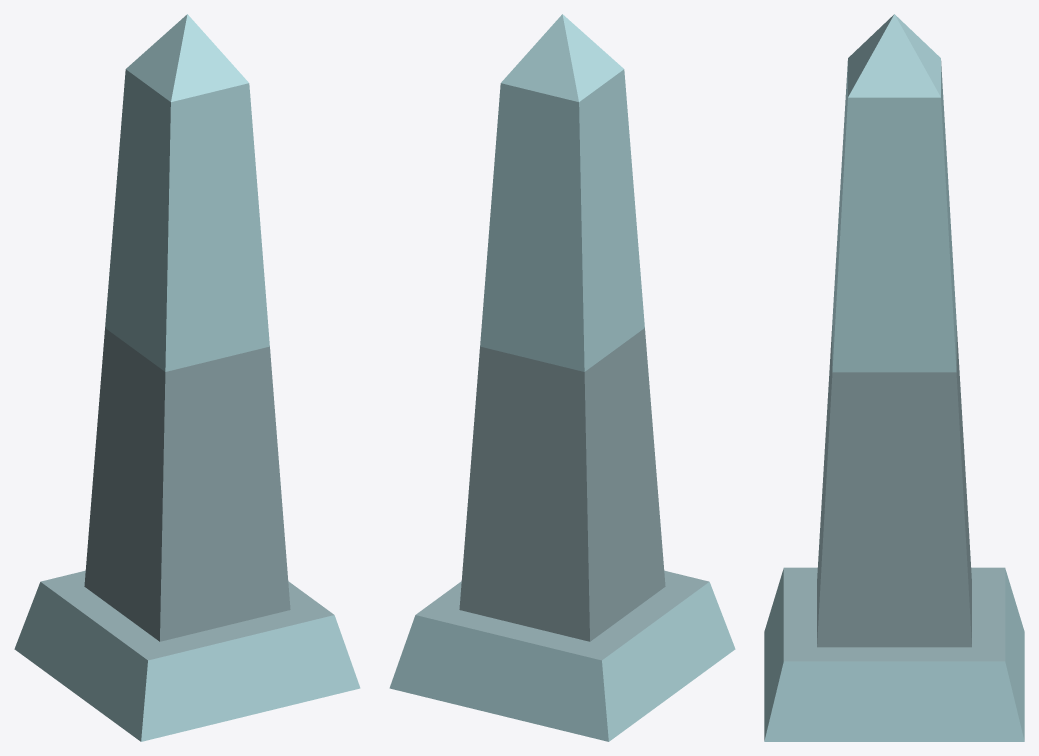
Rendered from obelisk.obj.
3 views of the same model, side by side, from view 1: azimuth 30°, elevation 25°; view 2: azimuth 150°, elevation 25°; view 3: azimuth 270°, elevation 25° (orthographic). The views are drawn at different scales.
Bounding box in the file's own units: 0.307 × 0.8754 × 0.307.
